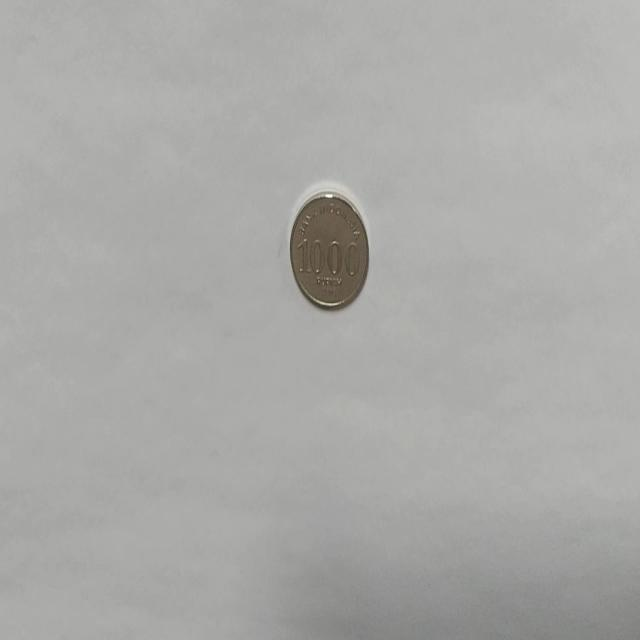seribu rupiah koin: (288, 188, 370, 310)
